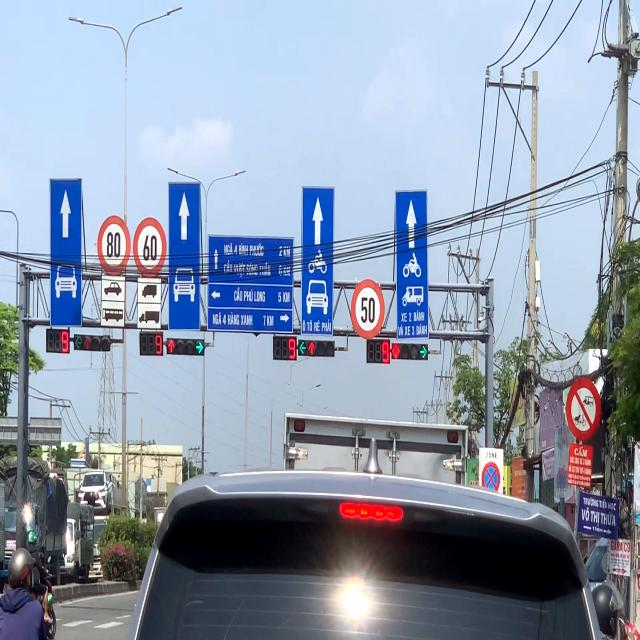P.127: (350, 278, 385, 340), (97, 214, 130, 277), (134, 214, 166, 277)
P.130: (481, 460, 501, 498)
